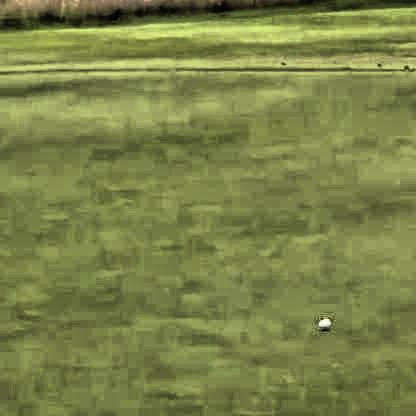golfball: (314, 315, 330, 331)
